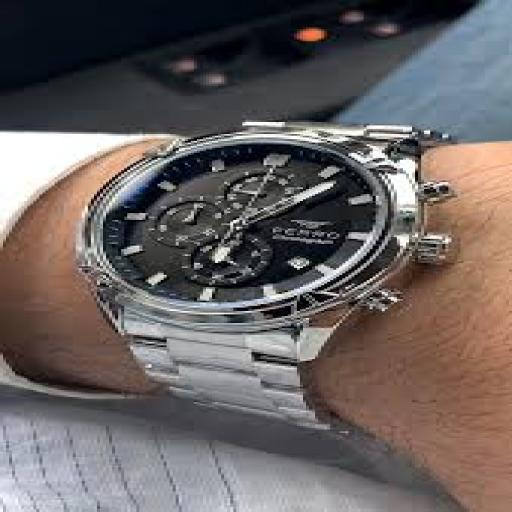KolSaati: (39, 76, 490, 460)
